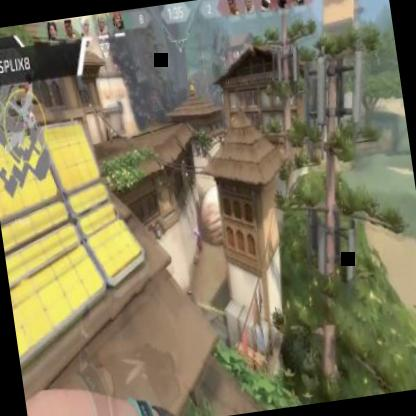enemy: (193, 227, 202, 252)
enemy_head: (194, 226, 198, 234)
